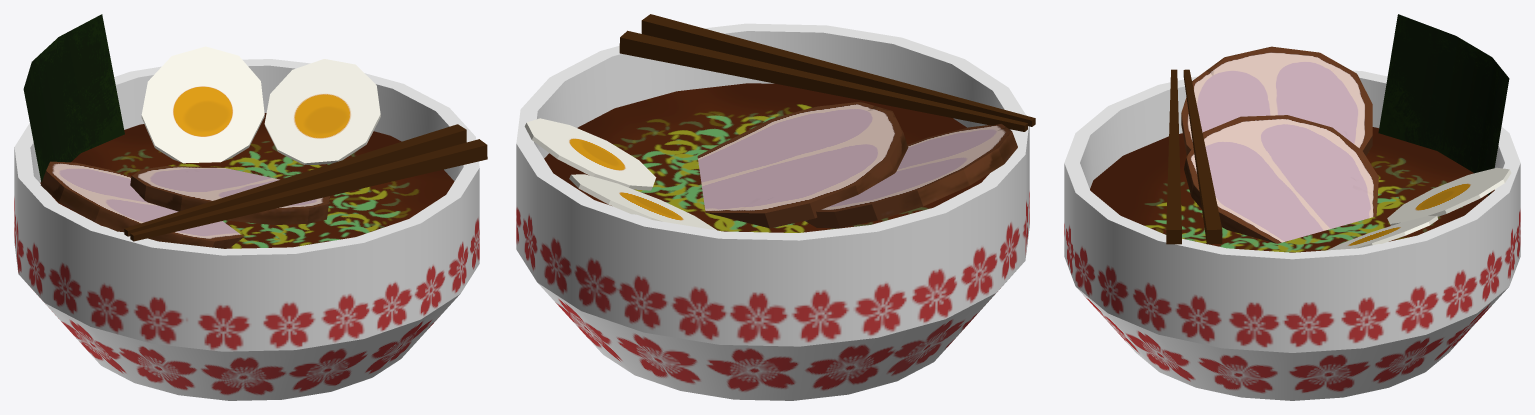
The model's file is ramen.glb.
3 renders of one model, left to right at view 1: azimuth 30°, elevation 25°; view 2: azimuth 150°, elevation 25°; view 3: azimuth 270°, elevation 25°, orthographic. The views are drawn at different scales.
Parts seen in each view (by area): view 1: polySurface9, polySurface8, polySurface6, polySurface2, polySurface5, polySurface4, polySurface3, polySurface7, polySurface1; view 2: polySurface9, polySurface3, polySurface8, polySurface4, polySurface1, polySurface7, polySurface5, polySurface6; view 3: polySurface9, polySurface3, polySurface8, polySurface2, polySurface4, polySurface6, polySurface1, polySurface7, polySurface5.
Part boxes in pixels (bbox=[...]): polySurface9: bbox=[14, 59, 479, 400]; polySurface8: bbox=[40, 113, 454, 248]; polySurface6: bbox=[141, 46, 264, 163]; polySurface2: bbox=[23, 14, 124, 193]; polySurface5: bbox=[264, 59, 380, 164]; polySurface4: bbox=[40, 161, 243, 248]; polySurface3: bbox=[130, 166, 330, 224]; polySurface7: bbox=[130, 139, 487, 241]; polySurface1: bbox=[124, 124, 466, 236]; polySurface9: bbox=[516, 23, 1029, 400]; polySurface3: bbox=[697, 101, 908, 228]; polySurface8: bbox=[544, 83, 989, 232]; polySurface4: bbox=[805, 123, 1017, 228]; polySurface1: bbox=[619, 30, 1027, 131]; polySurface7: bbox=[641, 14, 1035, 126]; polySurface5: bbox=[524, 118, 656, 190]; polySurface6: bbox=[569, 174, 717, 230]; polySurface9: bbox=[1064, 70, 1520, 400]; polySurface3: bbox=[1184, 115, 1378, 243]; polySurface8: bbox=[1090, 127, 1494, 252]; polySurface2: bbox=[1378, 14, 1509, 195]; polySurface4: bbox=[1181, 46, 1372, 155]; polySurface6: bbox=[1387, 167, 1511, 225]; polySurface1: bbox=[1183, 69, 1222, 244]; polySurface7: bbox=[1166, 69, 1181, 244]; polySurface5: bbox=[1327, 215, 1438, 250].
Bounding box in the file's own units: 147 × 84.55 × 147.
1 material, 1 textured.
